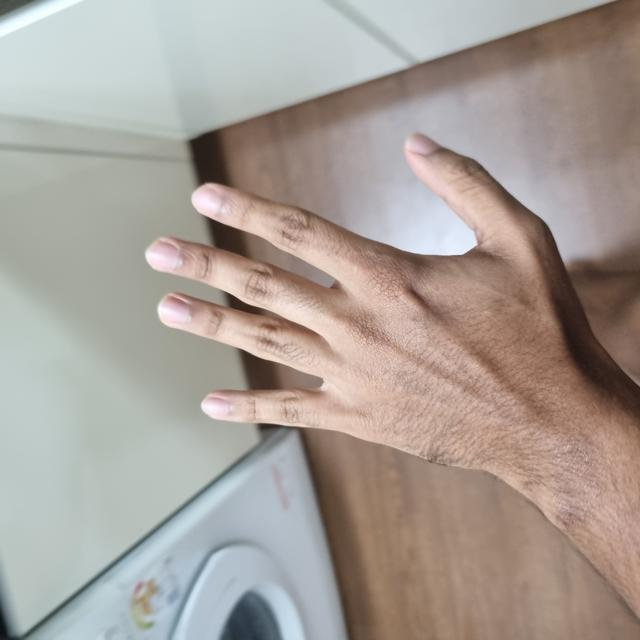Paper: (168, 148, 500, 603)
